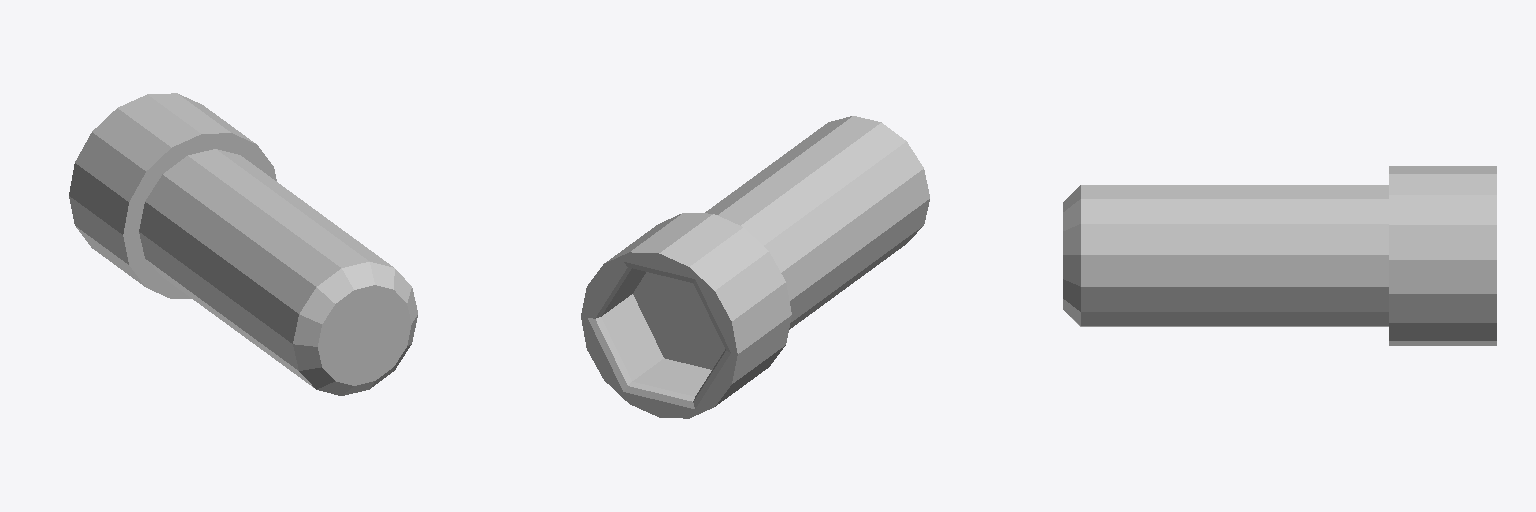
The model's file is Болт крепления защитной крышки верхней.obj.
3 renders of one model, left to right at view 1: azimuth 30°, elevation 25°; view 2: azimuth 150°, elevation 25°; view 3: azimuth 270°, elevation 25°, orthographic.
Parts seen in each view (by area): view 1: Болт_крепления_защитной_крышки_ве; view 2: Болт_крепления_защитной_крышки_ве; view 3: Болт_крепления_защитной_крышки_ве.
Boxes of the visible parts, box(x1,y1,x2,y2) form: Болт_крепления_защитной_крышки_ве: box(69, 93, 417, 395); Болт_крепления_защитной_крышки_ве: box(581, 116, 929, 418); Болт_крепления_защитной_крышки_ве: box(1063, 166, 1496, 345).
Size of the model in its own units: 10 by 10 by 24.